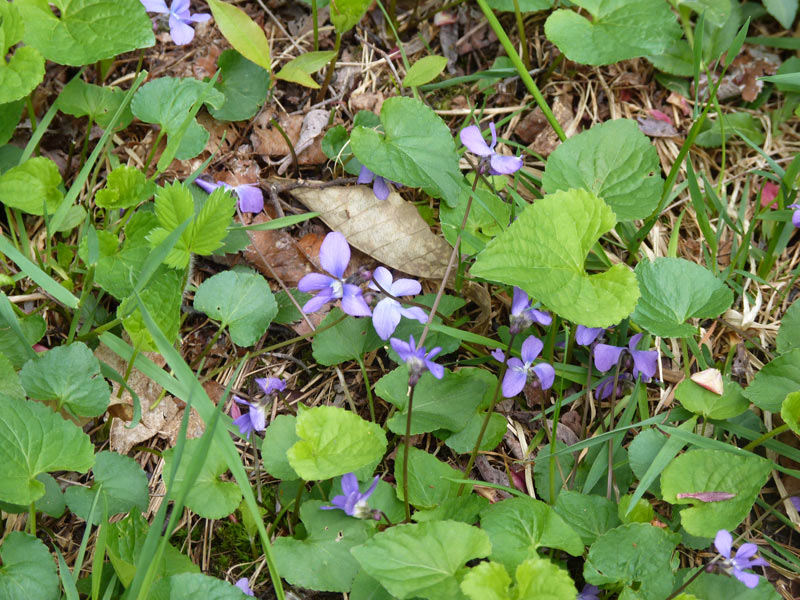violet: (294, 235, 363, 327), (458, 115, 520, 182), (587, 332, 666, 384), (368, 270, 431, 335), (705, 525, 766, 591), (228, 379, 296, 436), (494, 344, 558, 398), (140, 2, 214, 48), (331, 477, 382, 522)
